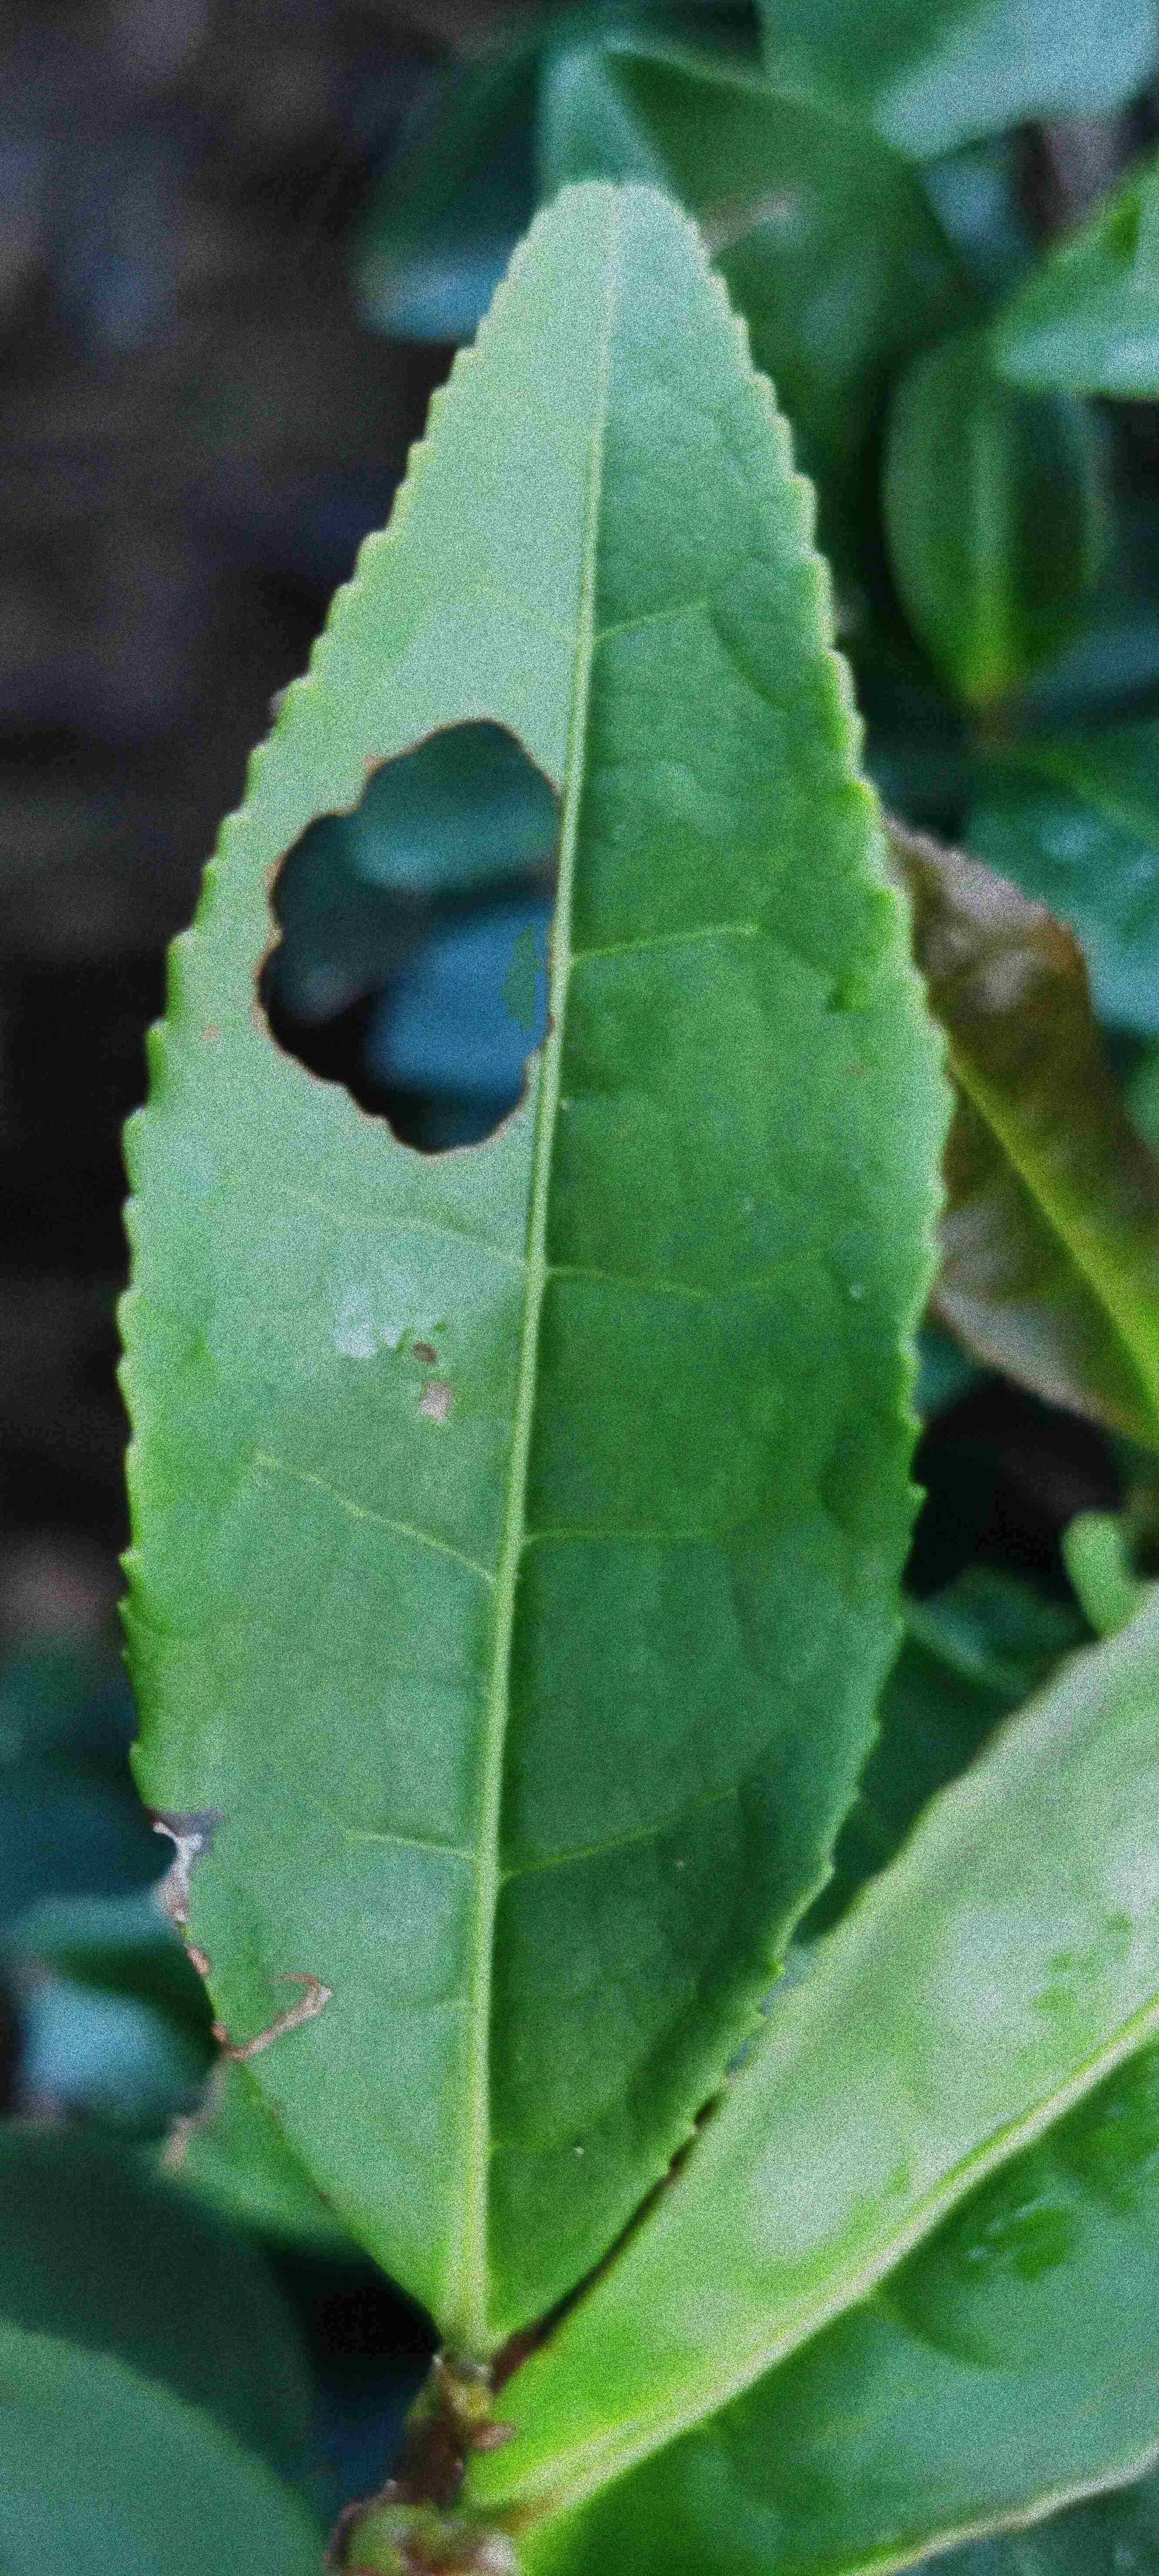chihuo_high: (110, 164, 960, 2349)
healthy: (468, 1590, 1156, 2574)
